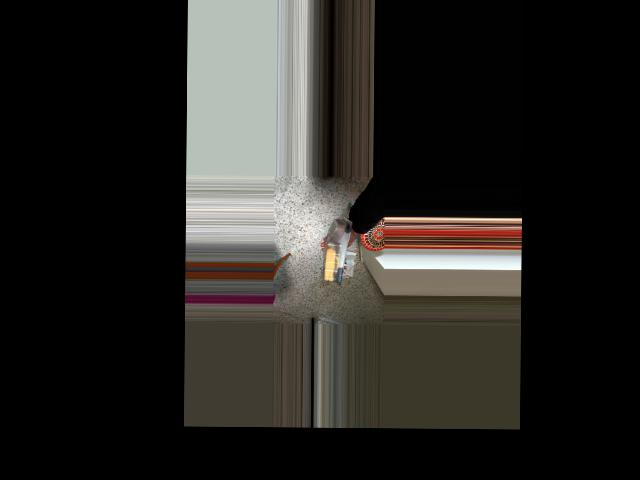cheese: (321, 220, 352, 283)
